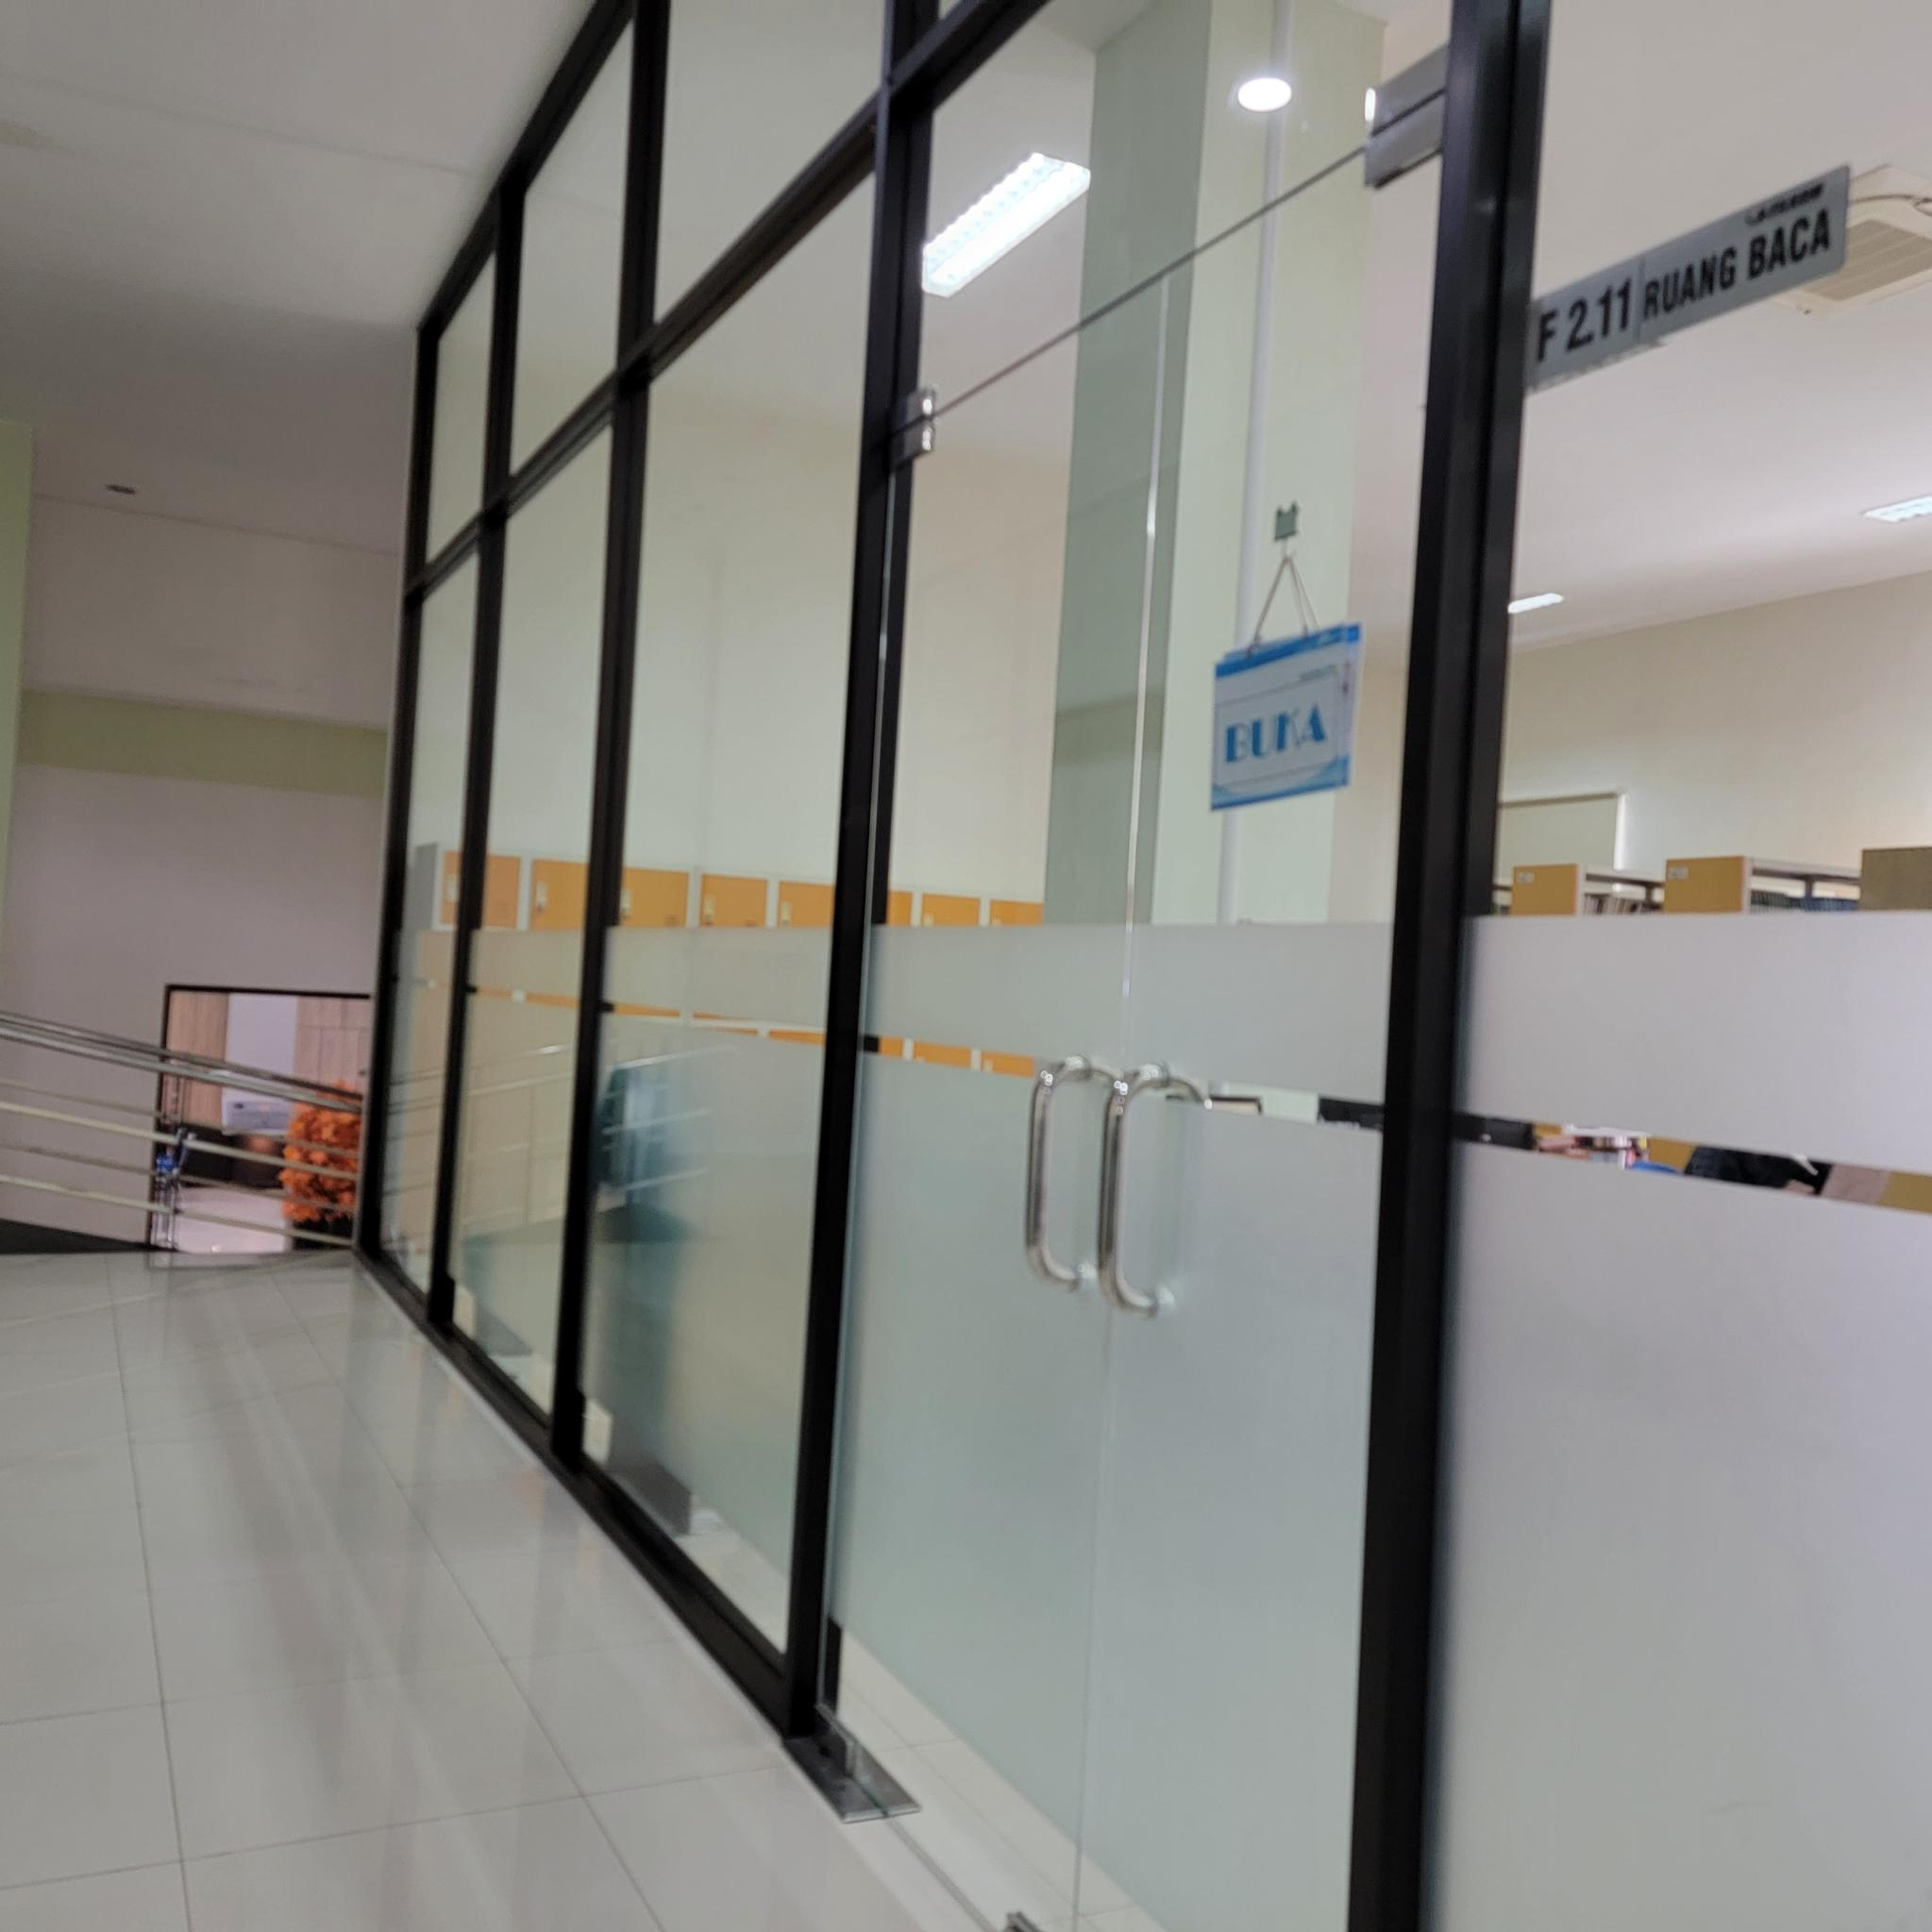plate: (1516, 168, 1854, 395)
